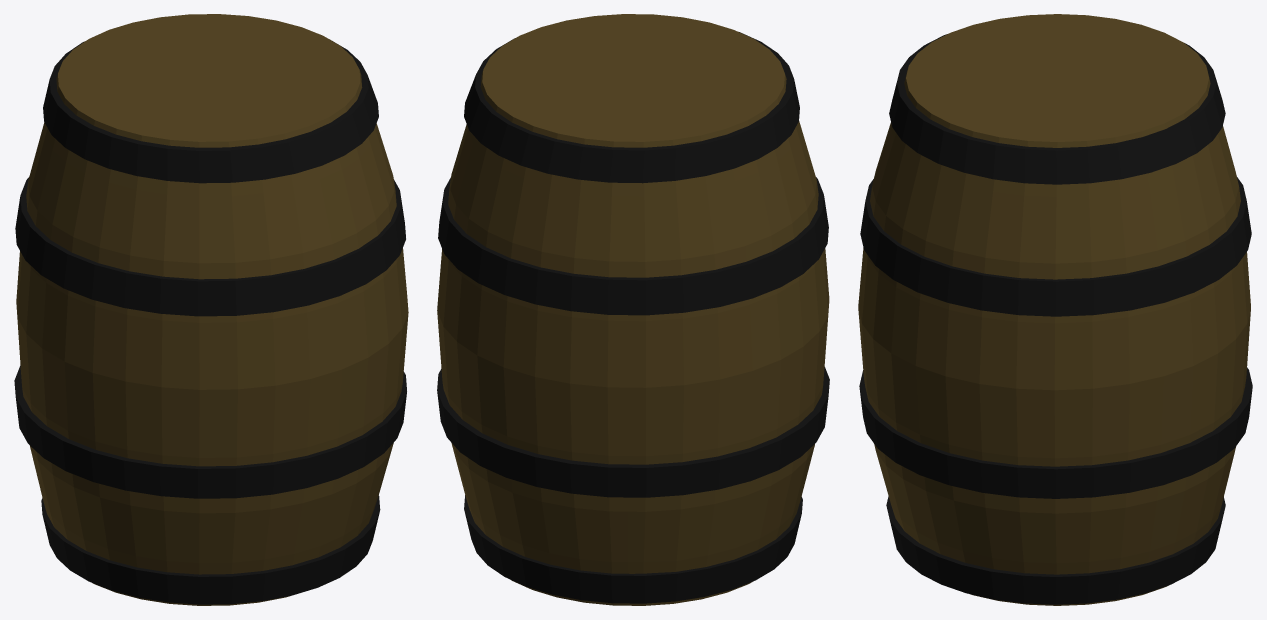
Rendered from barel.fbx.
3 views of the same model, side by side, from view 1: azimuth 30°, elevation 25°; view 2: azimuth 150°, elevation 25°; view 3: azimuth 270°, elevation 25° (orthographic).
Parts seen in each view (by area): view 1: Cylinder; view 2: Cylinder; view 3: Cylinder.
Part boxes in pixels (bbox=[...]): Cylinder: bbox=[14, 14, 408, 605]; Cylinder: bbox=[437, 14, 829, 605]; Cylinder: bbox=[858, 14, 1252, 605].
Bounding box in the file's own units: 225 × 291 × 225.
